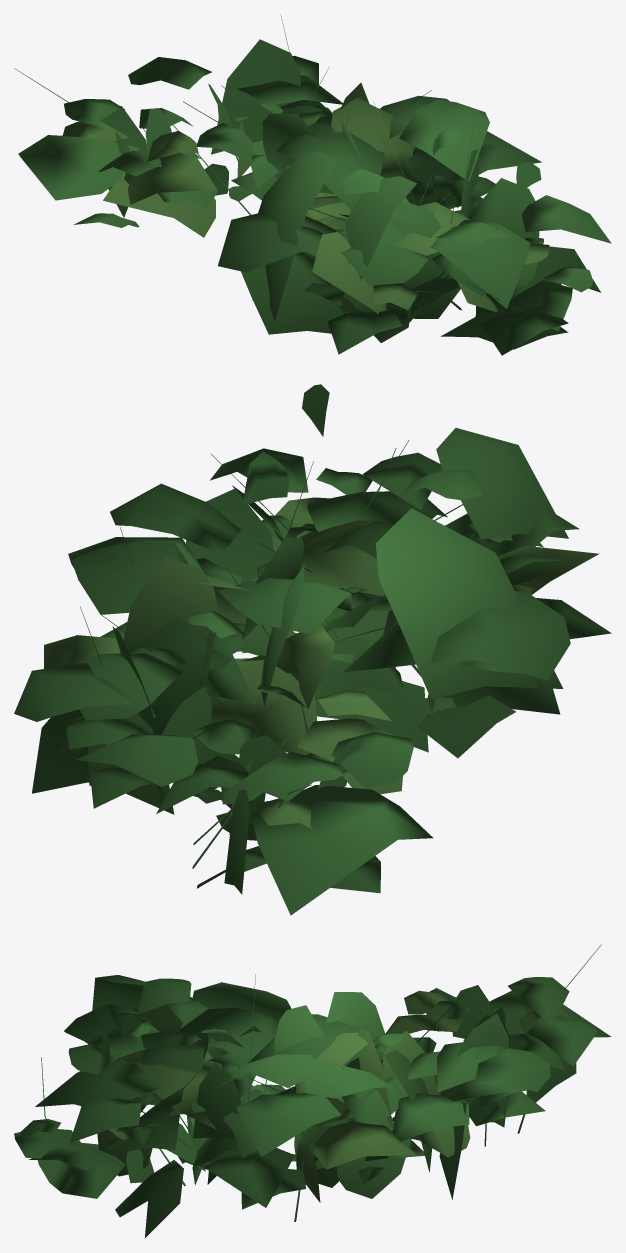
The model's file is forracao_3.glb.
The picture shows the model from 3 angles, top to bottom: view 1: azimuth 30°, elevation 25°; view 2: azimuth 150°, elevation 25°; view 3: azimuth 270°, elevation 25°; orthographic projection. The views are drawn at different scales.
Visible parts, largest first — view 1: forracao_3; view 2: forracao_3; view 3: forracao_3.
Part boxes in pixels (<box>): forracao_3: <box>14,15,611,355</box>; forracao_3: <box>14,384,611,915</box>; forracao_3: <box>14,944,611,1238</box>.
Bounding box in the file's own units: 0.5351 × 0.2774 × 0.7619.
